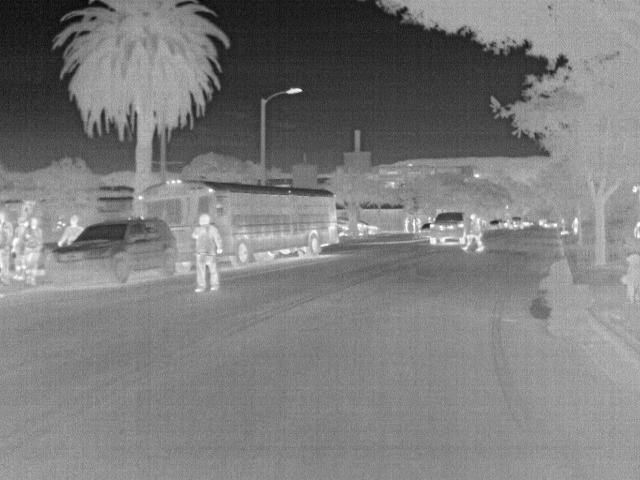car: (41, 215, 180, 289), (428, 210, 471, 244), (357, 221, 379, 238), (418, 223, 433, 240), (485, 220, 502, 232)
person: (193, 212, 223, 291), (17, 216, 45, 285), (0, 208, 17, 286), (462, 211, 486, 251), (54, 214, 83, 246), (400, 216, 412, 234), (571, 216, 581, 235)
